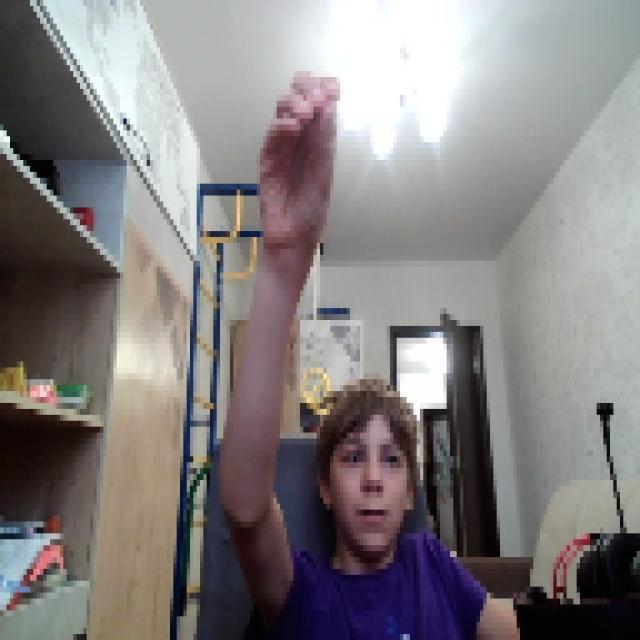left_click: (253, 59, 340, 255)
